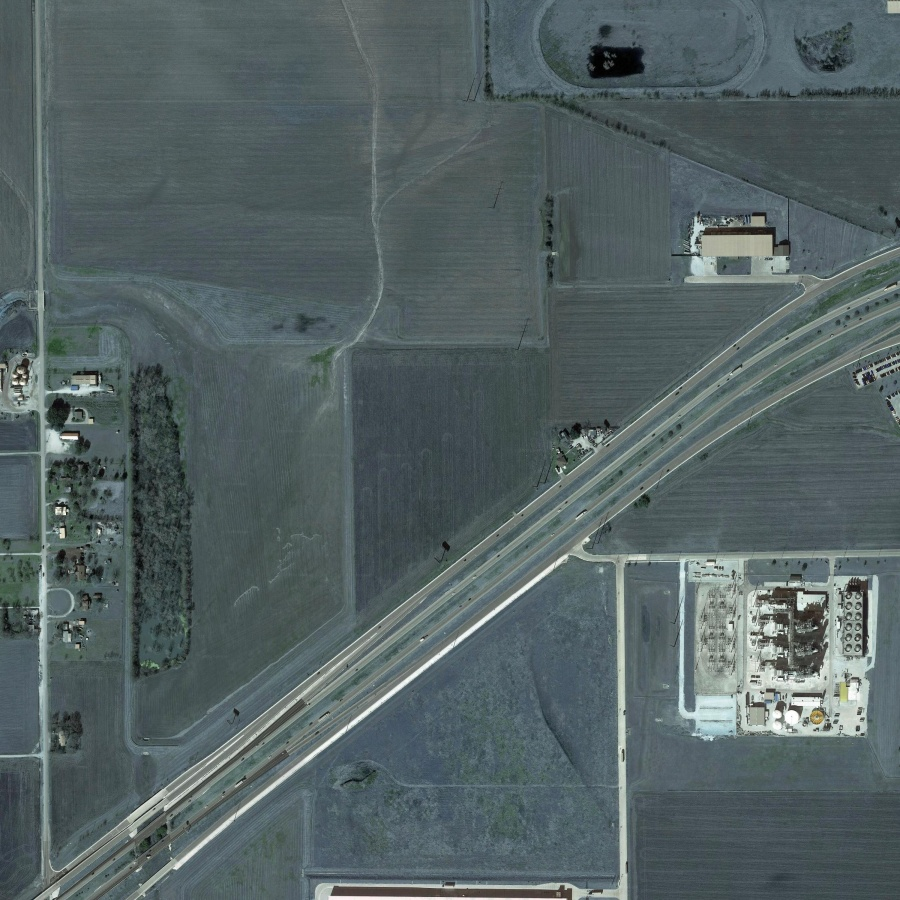PowerPlant: (681, 554, 875, 743)
